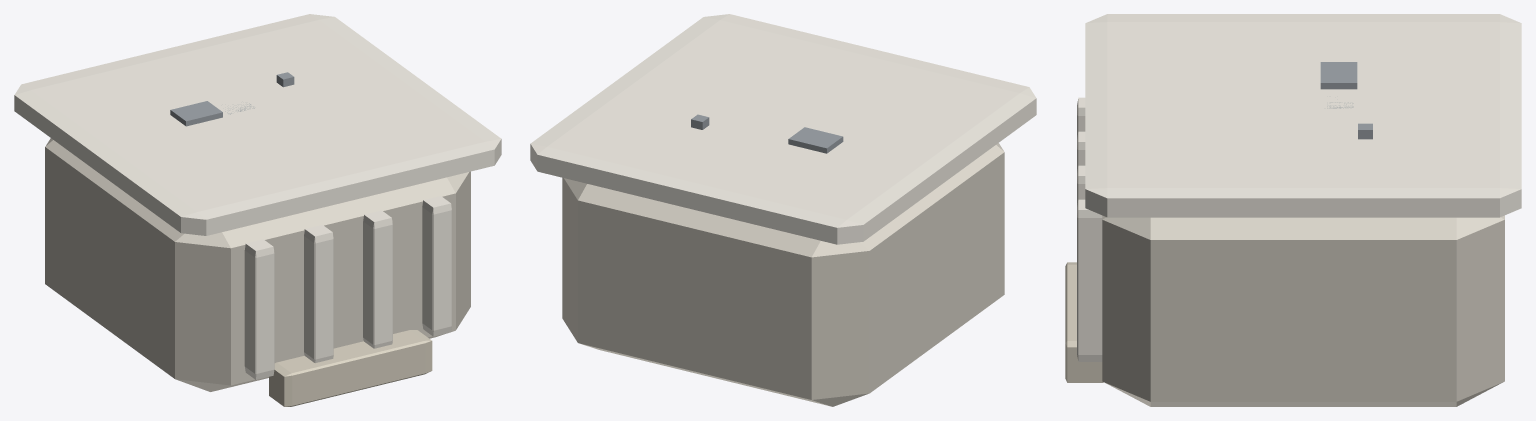
Rendered from bank_branch.glb.
3 renders of one model, left to right at view 1: azimuth 30°, elevation 25°; view 2: azimuth 150°, elevation 25°; view 3: azimuth 270°, elevation 25°, orthographic. The views are drawn at different scales.
Parts seen in each view (by area): view 1: cornice, walls, steps, col.15239, col.15242, col.15240, col.15241, hvac; view 2: walls, cornice, hvac; view 3: cornice, walls, col.15242, steps, hvac.
Boxes of the visible parts, x1,y1,x2,y2 form: cornice: (14,14,501,235); walls: (45,138,470,391); steps: (269,330,432,406); col.15239: (244,239,274,379); col.15242: (422,196,451,336); col.15240: (304,225,333,362); col.15241: (363,210,392,348); hvac: (170,101,222,126); walls: (562,143,1004,406); cornice: (530,14,1036,244); hvac: (788,127,843,153); cornice: (1085,14,1521,217); walls: (1102,215,1504,406); col.15242: (1077,199,1102,361); steps: (1065,262,1103,382); hvac: (1320,62,1357,89).
Bounding box in the file's own units: 13 × 8.1 × 13.6.
